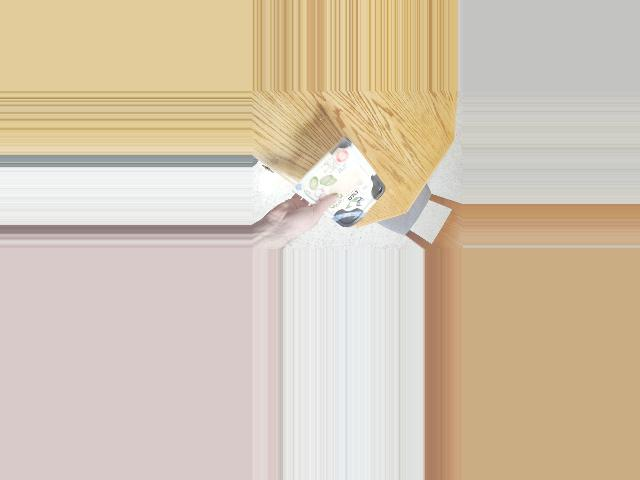cheese: (309, 148, 377, 227)
